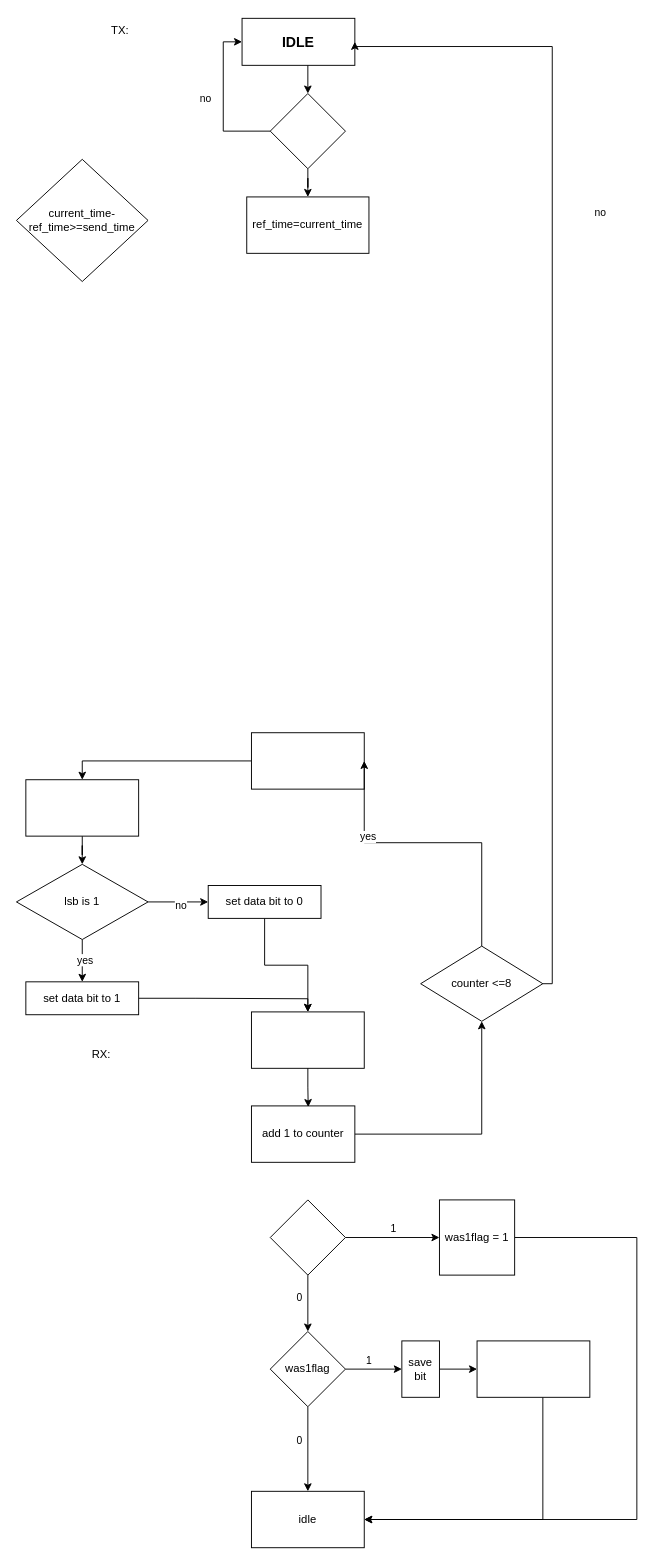
The diagram is 661 pixels wide and 1564 high, and some of its shapes have lost their labels. The centre of each missing label's shape, as x and y in pixels:
AND Operation with 1: pixel 82 807
CLK in: pixel 307 1237
set clock down: pixel 307 1039
set clock line up: pixel 307 760
time to send: pixel 307 131
was1flag=0: pixel 533 1368
